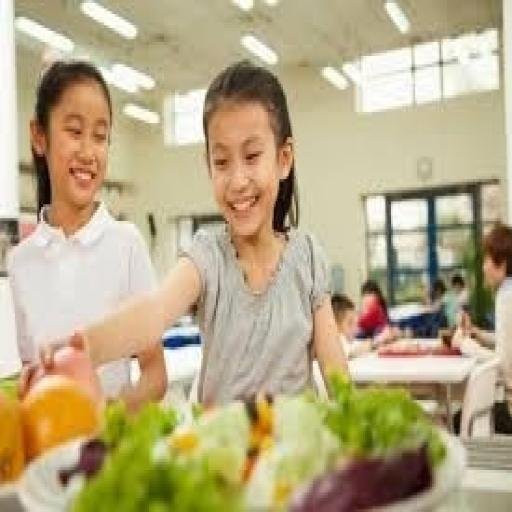eating: (22, 56, 356, 411), (6, 56, 170, 408)
